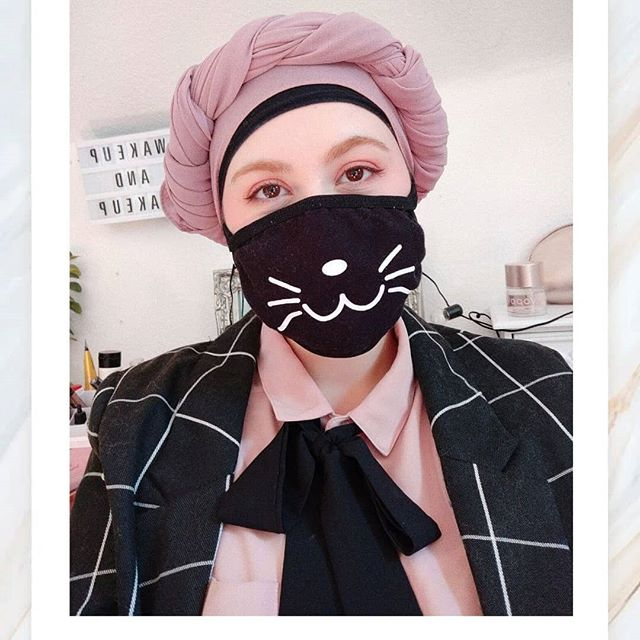homemade: (210, 191, 443, 357)
